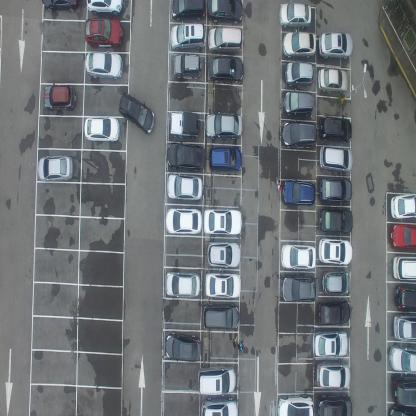car: (118, 90, 156, 135), (84, 14, 123, 48), (166, 140, 206, 172), (197, 364, 236, 396), (165, 330, 202, 362), (166, 207, 204, 236), (281, 274, 319, 303), (86, 51, 123, 80), (204, 208, 242, 236), (36, 154, 74, 182), (318, 30, 353, 60), (169, 22, 205, 51), (206, 28, 242, 57), (167, 174, 204, 202), (280, 120, 317, 148), (41, 80, 75, 110), (281, 178, 316, 207), (318, 144, 353, 173), (317, 206, 353, 234), (312, 329, 348, 357), (83, 116, 120, 143), (167, 110, 200, 140), (283, 30, 316, 60), (209, 57, 243, 86), (278, 0, 312, 29), (318, 115, 352, 144), (318, 237, 352, 266), (316, 360, 351, 388), (206, 114, 242, 141), (205, 272, 241, 299), (166, 271, 202, 298), (280, 243, 316, 270), (207, 240, 241, 268), (204, 303, 239, 330), (317, 66, 348, 96), (209, 146, 242, 174), (207, 0, 243, 25), (320, 175, 352, 203), (284, 60, 314, 89), (282, 90, 314, 117), (277, 394, 315, 416), (173, 52, 203, 79), (318, 300, 350, 325), (170, 0, 206, 22), (388, 344, 416, 372), (390, 222, 416, 252), (392, 374, 415, 407), (321, 268, 350, 294), (391, 190, 416, 220), (318, 393, 352, 415), (201, 395, 238, 415), (392, 253, 416, 282), (393, 312, 416, 342), (394, 284, 416, 312), (85, 0, 124, 15), (41, 0, 81, 14), (388, 407, 416, 415)
